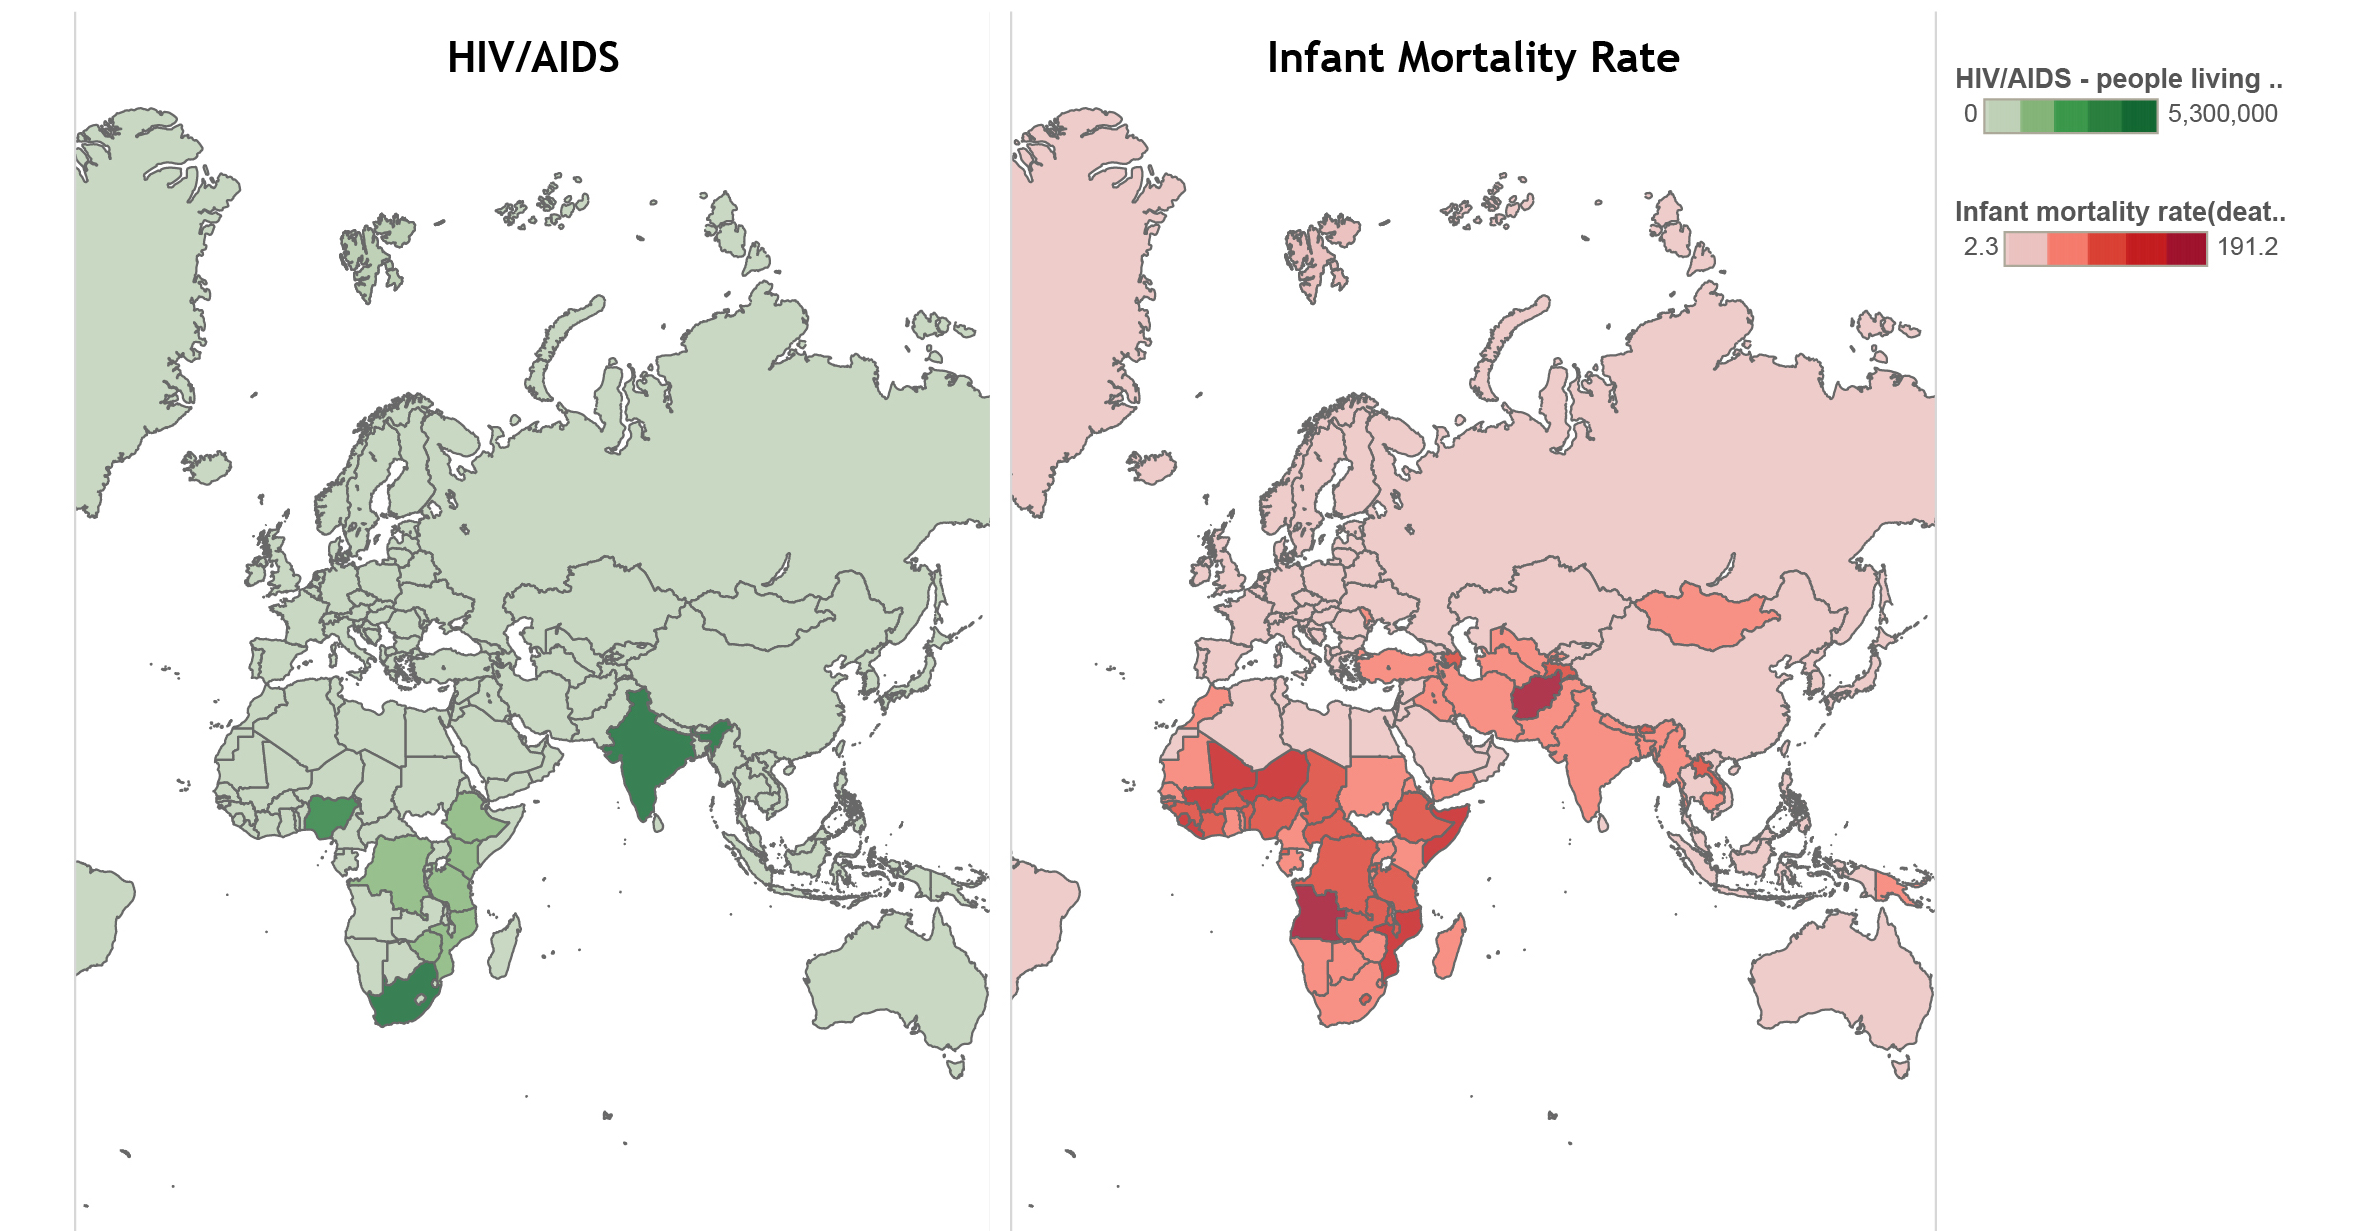

The dashboard page shown, as its layout file describes it:
{"tool":"tableau","page":{"name":"Dashboard 1","canvas":[600,350],"ordinal":0},"visuals":[{"type":"worksheet","title":"Sheet 1","mark":"Bar","rows":["Gender"],"cols":["Number"],"box":[0,0,440,147]},{"type":"legend","title":"Sheet 1","param":"[federated.0nu8bq403tzb9z1fh35ge1srv0x0].[none:Gender:nk]","box":[440,0,160,70]},{"type":"legend","title":"Sheet 2","param":"[federated.0nu8bq403tzb9z1fh35ge1srv0x0].[Goal of Evening (group)]","box":[440,70,160,66]},{"type":"worksheet","title":"Sheet 2","mark":"Automatic","rows":["Goal of Evening "],"cols":["Number 2"],"box":[0,147,440,203]}]}

Visuals, with their boxes on the page's 600x350 design canvas (x1, y1, x2, y2). These are canvas units, not pixel positions in the 2365x1231 screenshot, which may show the page scaled, cropped or inside an application window:
"Sheet 1" worksheet (Bar marks): 0, 0, 440, 147
"Sheet 1" legend: 440, 0, 600, 70
"Sheet 2" legend: 440, 70, 600, 136
"Sheet 2" worksheet: 0, 147, 440, 350
